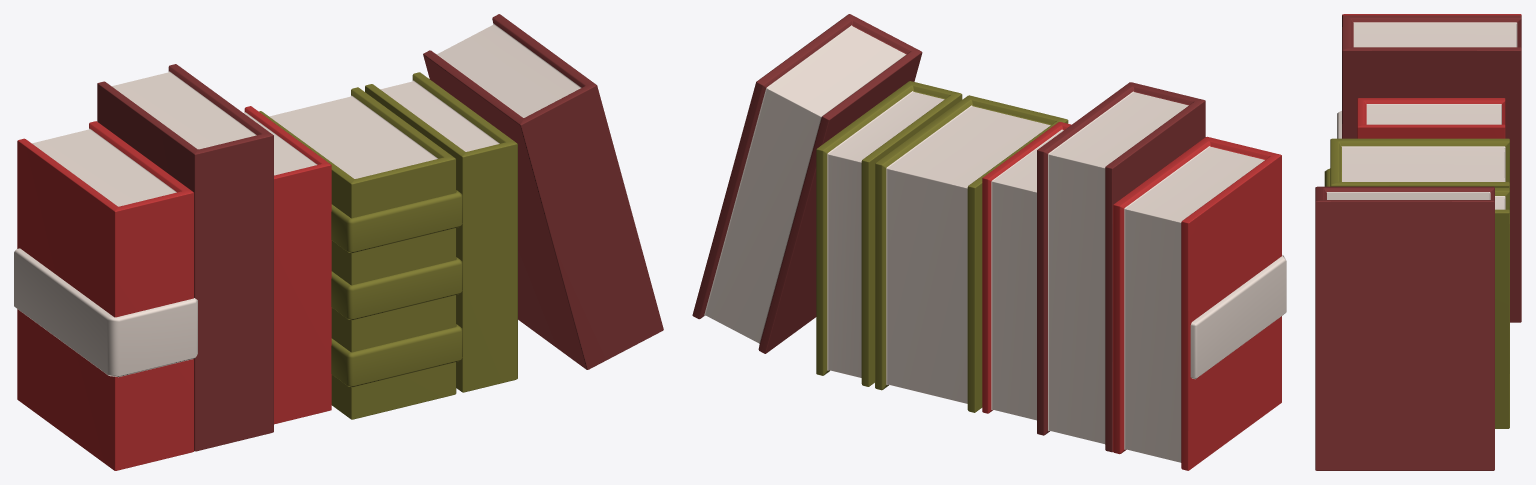
The model's file is Books_25.glb.
3 views of the same model, side by side, from view 1: azimuth 30°, elevation 25°; view 2: azimuth 150°, elevation 25°; view 3: azimuth 270°, elevation 25° (orthographic). The views are drawn at different scales.
Parts seen in each view (by area): view 1: Books_25; view 2: Books_25; view 3: Books_25.
Part boxes in pixels (box(x1,y1,x2,y2)): Books_25: box(14, 14, 663, 470); Books_25: box(692, 14, 1286, 470); Books_25: box(1315, 14, 1521, 470).
Bounding box in the file's own units: 0.6911 × 0.3639 × 0.2494.
Materials: 1 (1 with a texture image).
